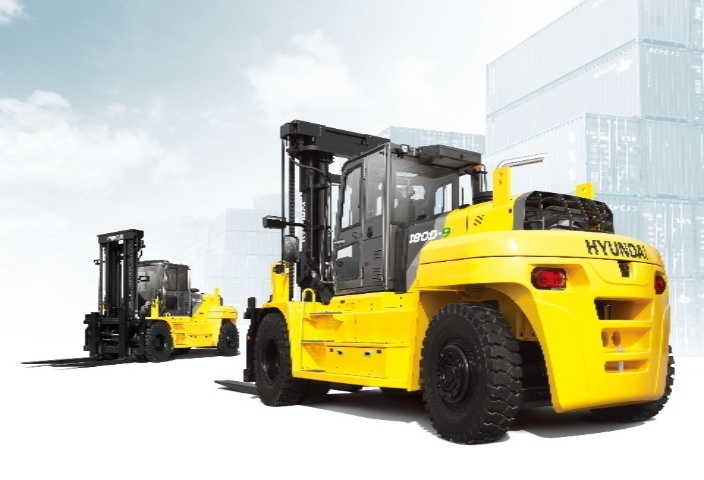truck: (203, 114, 678, 452), (53, 201, 243, 372)
